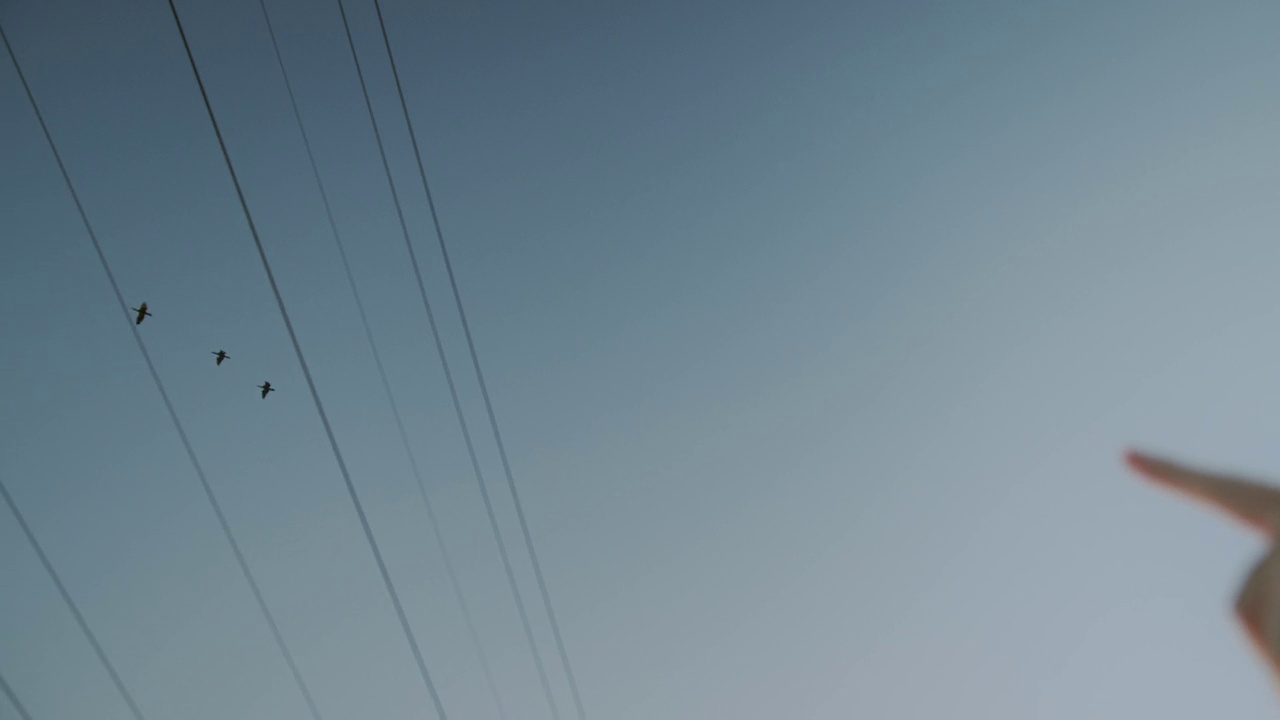bird: (130, 301, 150, 324), (256, 380, 275, 399), (212, 348, 231, 366)
